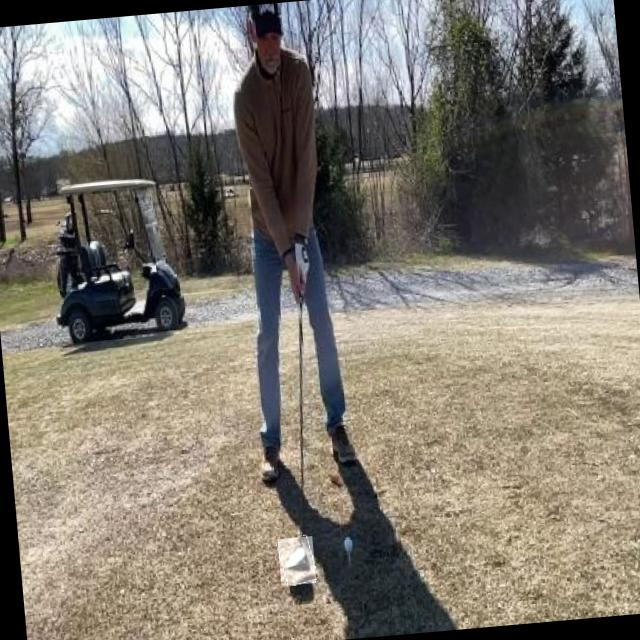club head: (277, 536, 316, 586)
